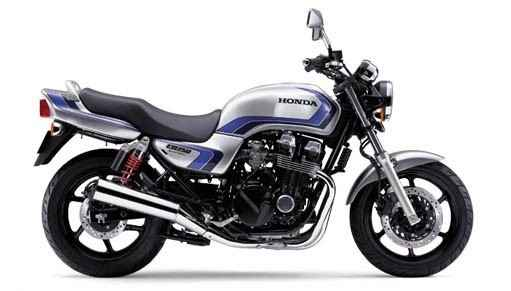motor: (28, 23, 484, 280)
